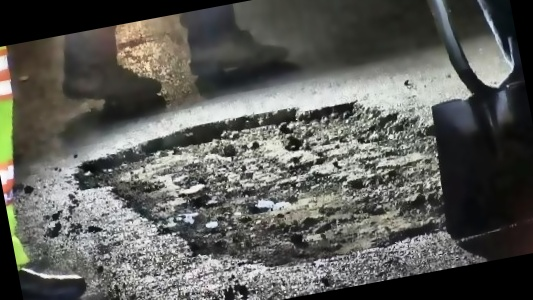pothole: (65, 73, 485, 300)
